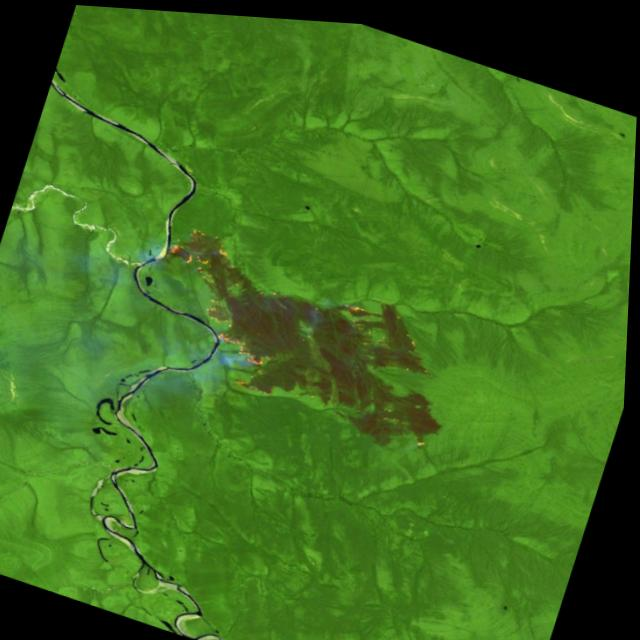fire: (129, 210, 382, 417)
